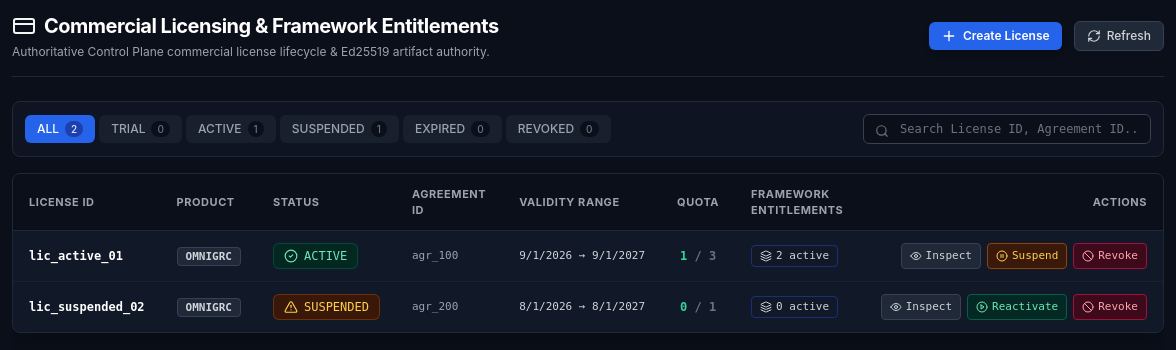
Test: CP-6.3 Commercial Licensing & Entitlements Control UI › License List Page (/licensing) › 4. should filter licenses using search box
Check: the text "lic_active_01" is shown, box [29, 248, 123, 264]
Type "suspended_02" into the field with placeholder "Search License ID, Agreement ID...".
click(1007, 129); type("suspended_02")  # box [863, 114, 1151, 144]
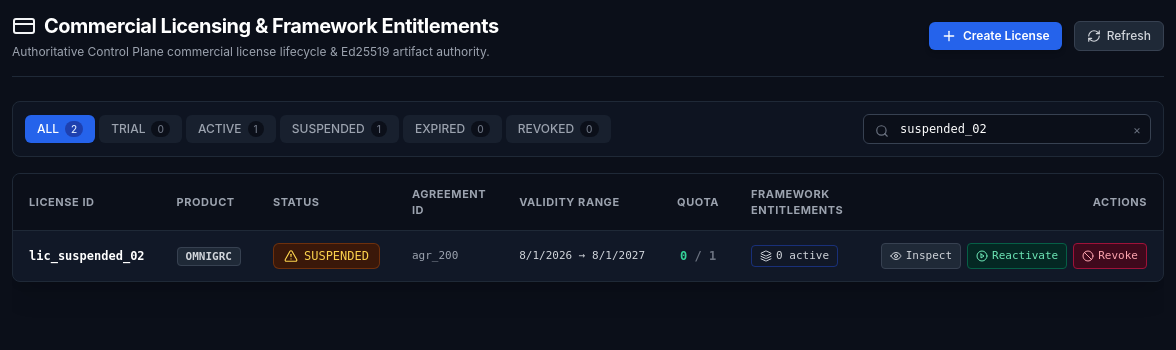
Check: the text "lic_suspended_02" is shown, box [29, 248, 145, 264]
Check: the link "lic_active_01" is gone
